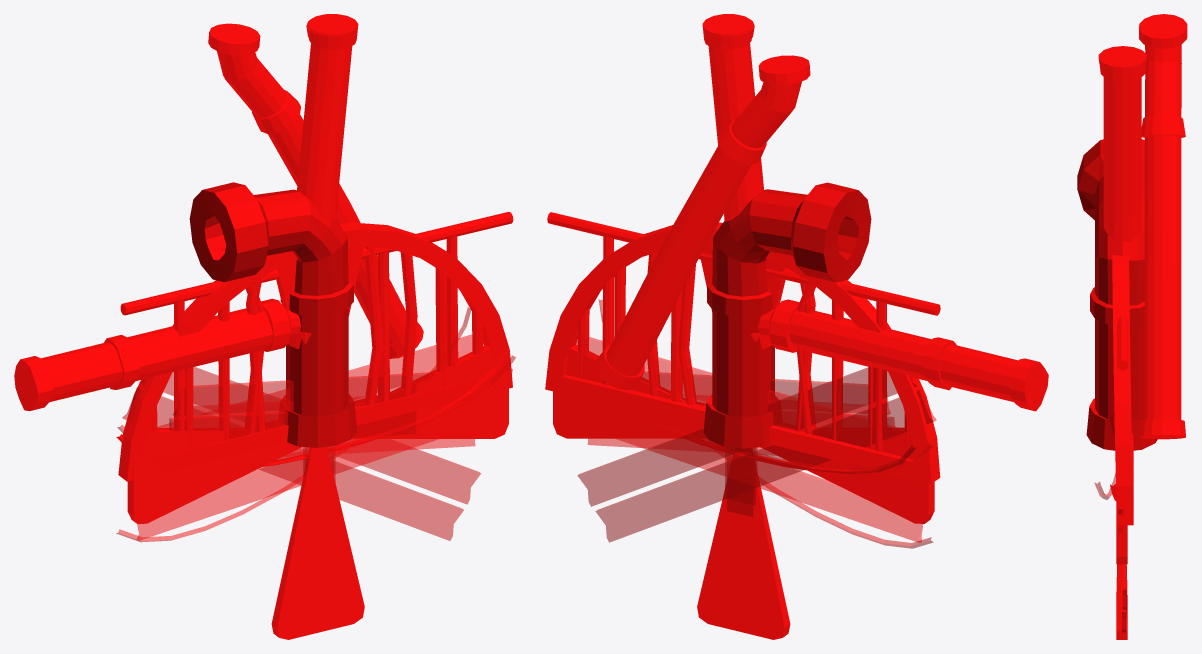
Rendered from fixed_obstacles.glb.
3 renders of one model, left to right at view 1: azimuth 30°, elevation 25°; view 2: azimuth 150°, elevation 25°; view 3: azimuth 270°, elevation 25°, orthographic. The views are drawn at different scales.
Visible parts, largest first — view 1: propeller, grid, pipe2, wood3, pipe3, wood4, grid2, pipe4, pipe5, cable2, pipe, cable; view 2: pipe2, propeller, grid, wood3, pipe3, wood4, grid2, pipe4, pipe5, pipe, cable2, wood2 (+1 smaller); view 3: pipe3, pipe2, pipe, grid, propeller, grid2, wood3, cable2.
Boxes of the visible parts, x1,y1,x2,y2 form: propeller: (127, 246, 508, 639); grid: (118, 222, 512, 481); pipe2: (189, 182, 357, 447); wood3: (122, 367, 512, 540); pipe3: (208, 21, 423, 358); wood4: (137, 334, 475, 540); grid2: (120, 212, 513, 450); pipe4: (14, 305, 300, 411); pipe5: (104, 298, 300, 389); cable2: (116, 307, 515, 542); pipe: (305, 14, 358, 337); cable: (116, 351, 508, 466); pipe2: (703, 182, 871, 448); propeller: (553, 245, 934, 639); grid: (545, 222, 940, 483); wood3: (577, 367, 936, 542); pipe3: (595, 21, 810, 390); wood4: (576, 334, 923, 542); grid2: (547, 212, 940, 451); pipe4: (757, 305, 1048, 411); pipe5: (757, 299, 956, 390); pipe: (702, 14, 759, 340); cable2: (576, 299, 933, 548); wood2: (727, 447, 754, 517); pipe3: (1098, 14, 1187, 439); pipe2: (1077, 139, 1157, 450); pipe: (1099, 46, 1146, 241); grid: (1112, 254, 1133, 525); propeller: (1116, 507, 1127, 639); grid2: (1117, 315, 1128, 370); wood3: (1118, 507, 1126, 632); cable2: (1094, 415, 1115, 499).
Bounding box in the file's own units: 15.11 × 17.88 × 3.1.
